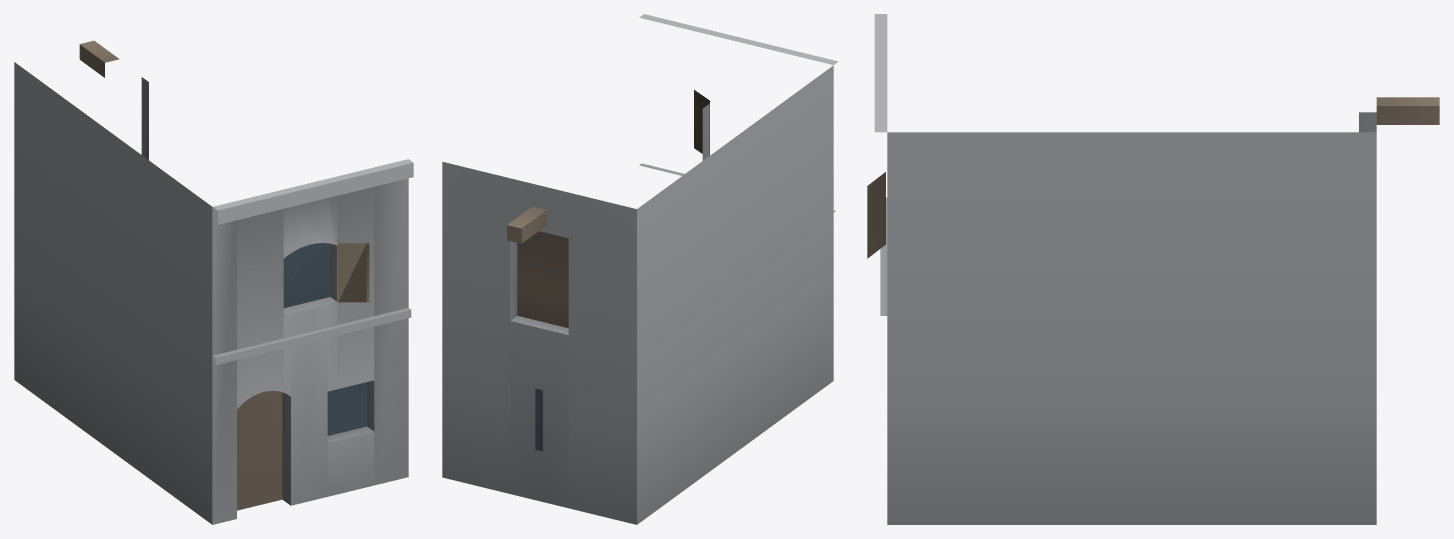
File: sg_backhouse.glb
3 renders of one model, left to right at view 1: azimuth 30°, elevation 25°; view 2: azimuth 150°, elevation 25°; view 3: azimuth 270°, elevation 25°, orthographic. The views are drawn at different scales.
Visible parts, largest first — view 1: sg_backhouse_SG_Stone, sg_backhouse_SG_Joinery, sg_backhouse_SG_Glass; view 2: sg_backhouse_SG_Stone, sg_backhouse_SG_Joinery, sg_backhouse_SG_Glass; view 3: sg_backhouse_SG_Stone, sg_backhouse_SG_Joinery.
Part boxes in pixels (x1=…): sg_backhouse_SG_Stone: x1=14, y1=62, x2=413, y2=524; sg_backhouse_SG_Joinery: x1=79, y1=40, x2=369, y2=510; sg_backhouse_SG_Glass: x1=283, y1=243, x2=367, y2=435; sg_backhouse_SG_Stone: x1=442, y1=14, x2=838, y2=524; sg_backhouse_SG_Joinery: x1=507, y1=90, x2=709, y2=328; sg_backhouse_SG_Glass: x1=535, y1=388, x2=542, y2=451; sg_backhouse_SG_Stone: x1=874, y1=14, x2=1376, y2=524; sg_backhouse_SG_Joinery: x1=867, y1=97, x2=1439, y2=258.
Size of the model in its own units: 4 by 6.2 by 8.18.
